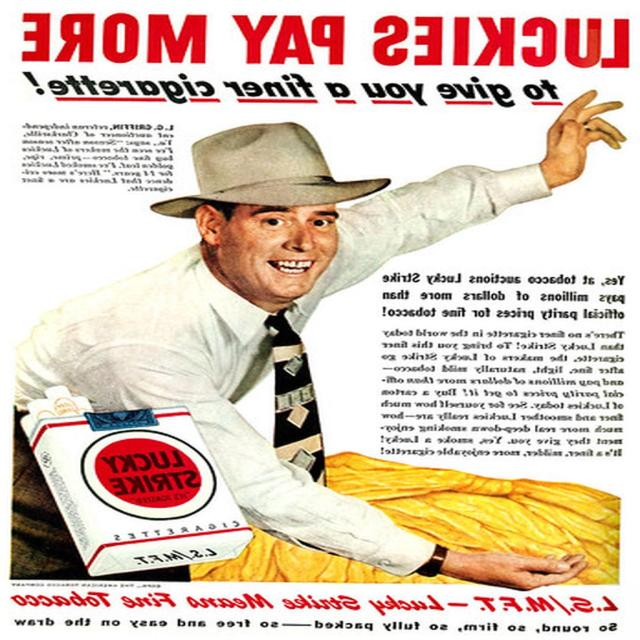smoking: (13, 86, 628, 586)
